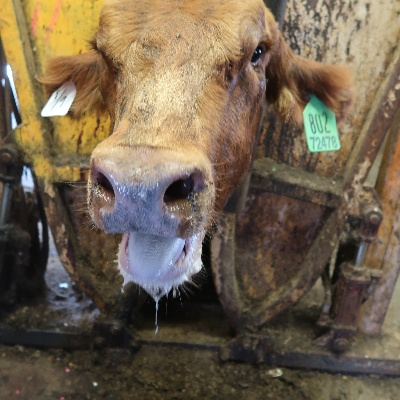fidget_spinner: (74, 149, 222, 240)
